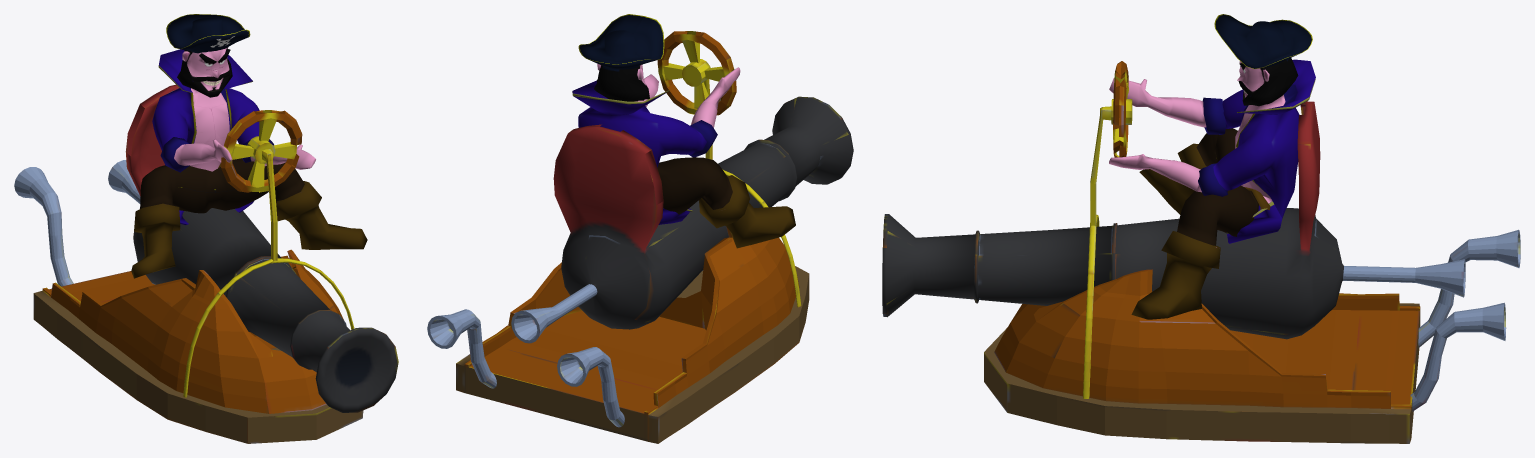
File: pirataGiroDER_000309.obj
The picture shows the model from 3 angles, left to right: view 1: azimuth 30°, elevation 25°; view 2: azimuth 150°, elevation 25°; view 3: azimuth 270°, elevation 25°; orthographic projection. The views are drawn at different scales.
Visible parts, largest first — view 1: carro_pirata, Pirata_PirataH; view 2: carro_pirata, Pirata_PirataH; view 3: carro_pirata, Pirata_PirataH.
Boxes of the visible parts, <box> form: carro_pirata: <box>14,84,398,443</box>; Pirata_PirataH: <box>131,14,367,278</box>; carro_pirata: <box>427,31,853,443</box>; Pirata_PirataH: <box>572,14,795,248</box>; carro_pirata: <box>882,61,1520,443</box>; Pirata_PirataH: <box>1109,14,1315,319</box>.
Size of the model in its own units: 5.65 by 7.69 by 12.1.
2 materials, 2 textured.
